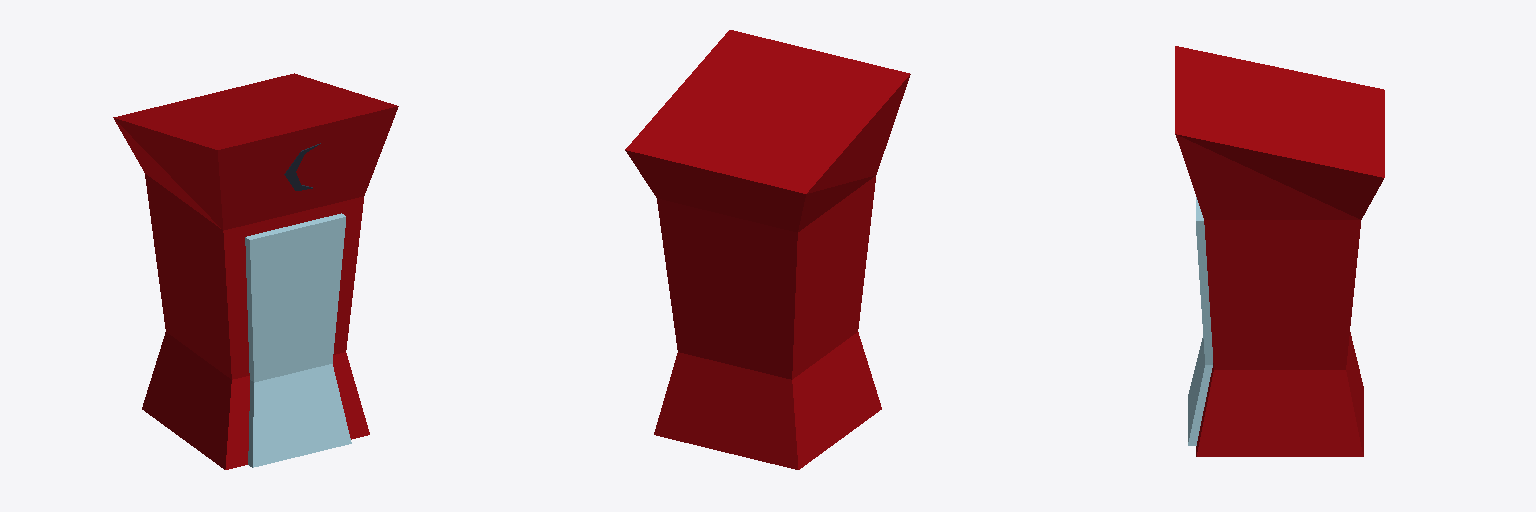
File: Banheiro.obj
3 renders of one model, left to right at view 1: azimuth 30°, elevation 25°; view 2: azimuth 150°, elevation 25°; view 3: azimuth 270°, elevation 25°, orthographic.
Visible parts, largest first — view 1: Banheiro; view 2: Banheiro; view 3: Banheiro.
Boxes of the visible parts, x1,y1,x2,y2 form: Banheiro: [113, 73, 398, 469]; Banheiro: [625, 30, 910, 469]; Banheiro: [1175, 46, 1384, 456].
Size of the model in its own units: 22.37 by 39.17 by 22.37.